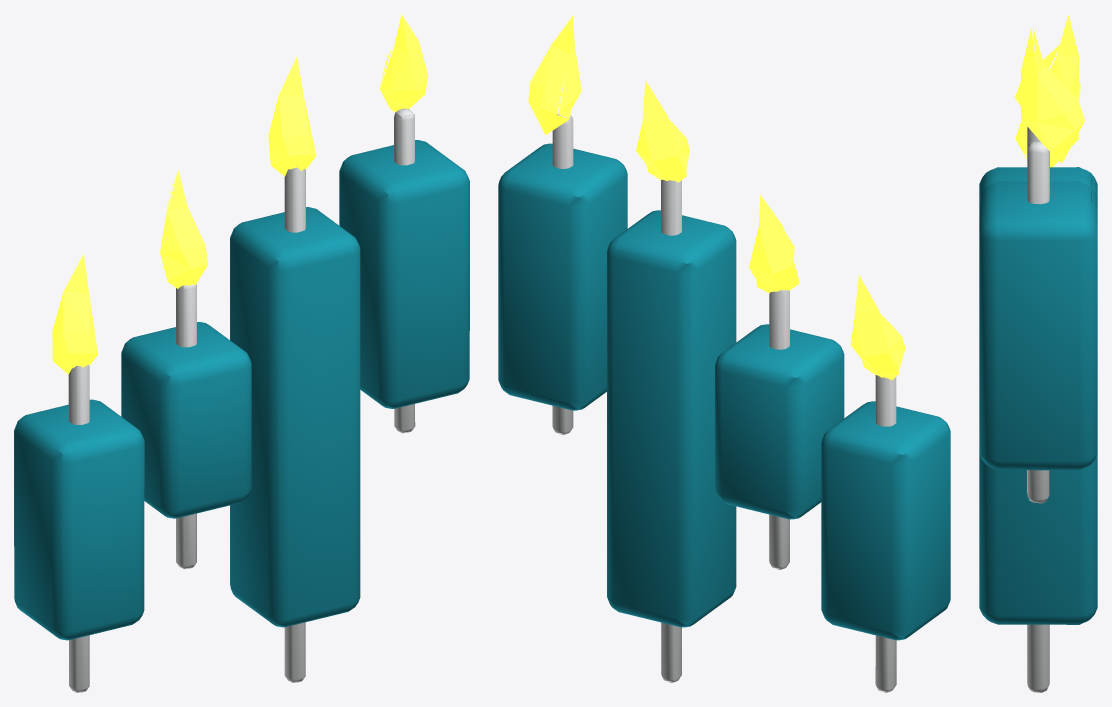
The model's file is tinyJapCanOnly.glb.
3 renders of one model, left to right at view 1: azimuth 30°, elevation 25°; view 2: azimuth 150°, elevation 25°; view 3: azimuth 270°, elevation 25°, orthographic. The views are drawn at different scales.
Visible parts, largest first — view 1: XBase.002, XBase, XBase.003, XBase.001, Flame.001, Flame.003, Flame.002, Flame.004; view 2: XBase.002, XBase, XBase.003, XBase.001, Flame.004, Flame.001, Flame.003, Flame.002; view 3: XBase.003, XBase.002, Flame.004, Flame.003, Flame.002.
Boxes of the visible parts, x1,y1,x2,y2 form: XBase.002: (230, 167, 360, 682); XBase: (14, 364, 144, 692); XBase.003: (339, 108, 469, 433); XBase.001: (121, 284, 251, 569); Flame.001: (52, 254, 98, 374); Flame.003: (268, 56, 316, 176); Flame.002: (160, 169, 208, 288); Flame.004: (379, 14, 428, 112); XBase.002: (607, 179, 736, 682); XBase: (821, 375, 950, 692); XBase.003: (498, 114, 627, 434); XBase.001: (715, 289, 844, 569); Flame.004: (528, 15, 581, 134); Flame.001: (850, 275, 905, 380); Flame.003: (636, 80, 689, 182); Flame.002: (749, 195, 799, 293); XBase.003: (979, 141, 1097, 503); XBase.002: (979, 127, 1097, 692); Flame.004: (1020, 28, 1084, 163); Flame.003: (1015, 14, 1079, 106); Flame.002: (1018, 79, 1080, 166).
Bounding box in the file's own units: 1.67 × 2.46 × 0.3668.
